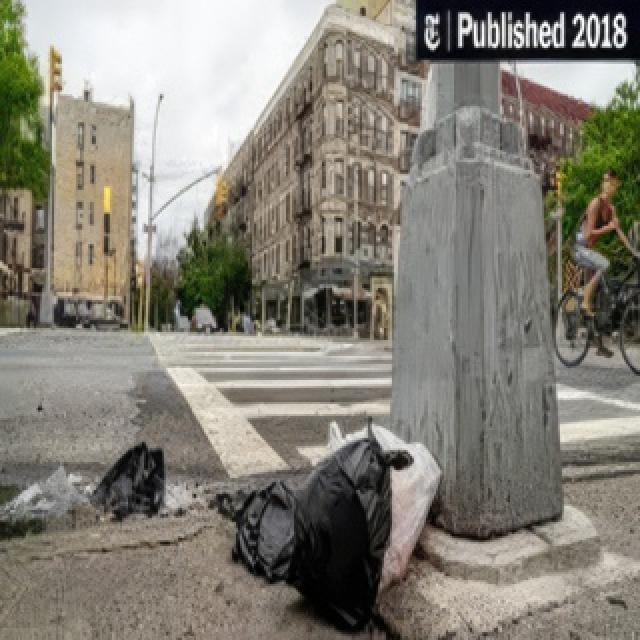high trash: (218, 425, 440, 629)
less trash: (92, 442, 164, 519)
